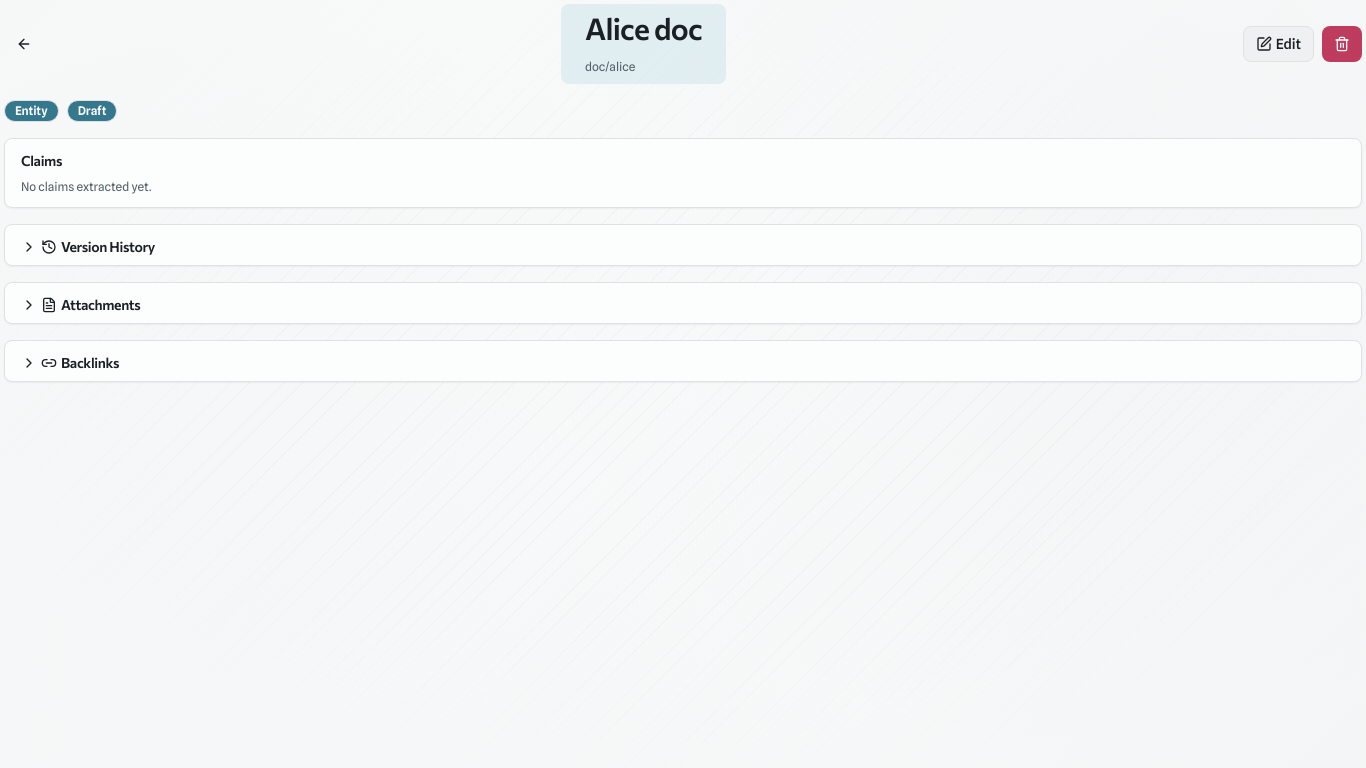
Test case: WikiPageDetail AttachmentsSection › shows the empty state when no files are returned
This screenshot has width=1366, height=768.
Click the heading "Attachments" at (81, 304), box [21, 296, 140, 313]
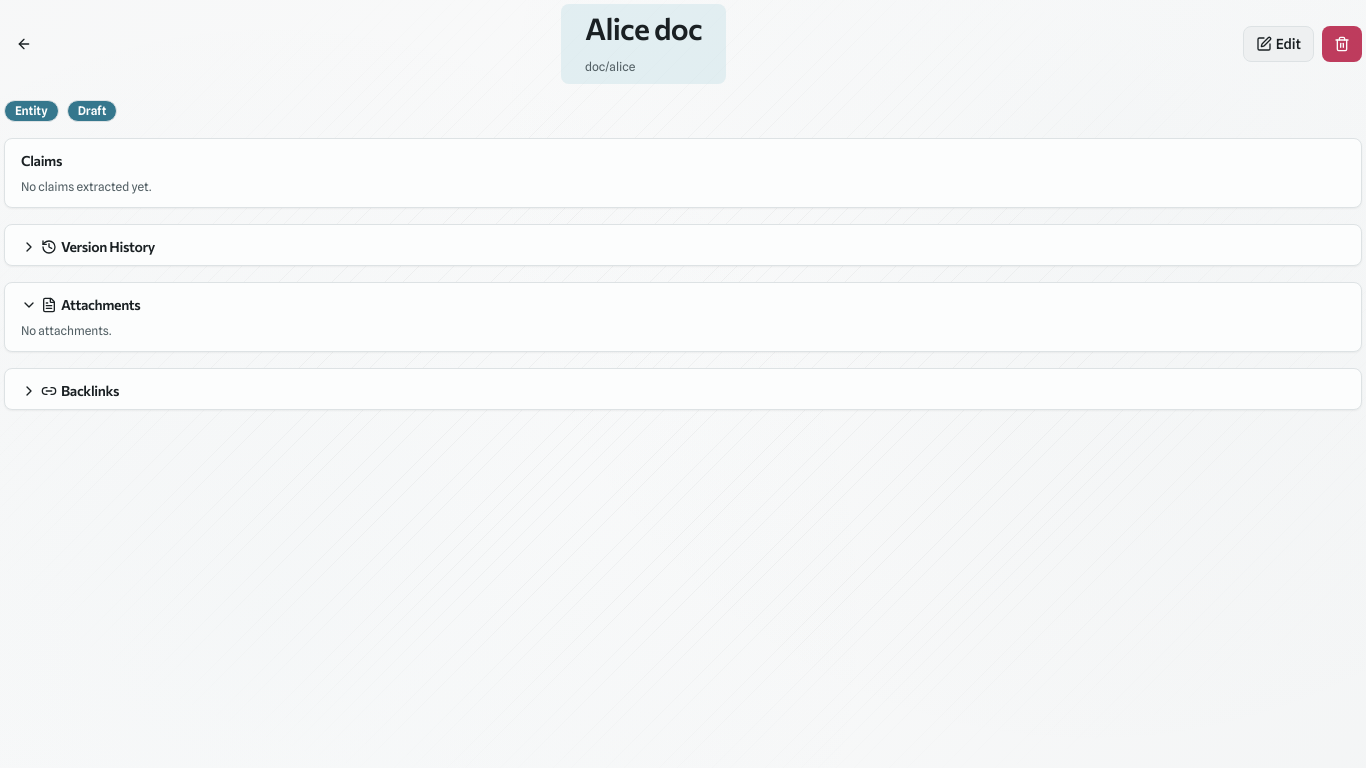
Now the text "No attachments." is shown, box [21, 323, 111, 338]
